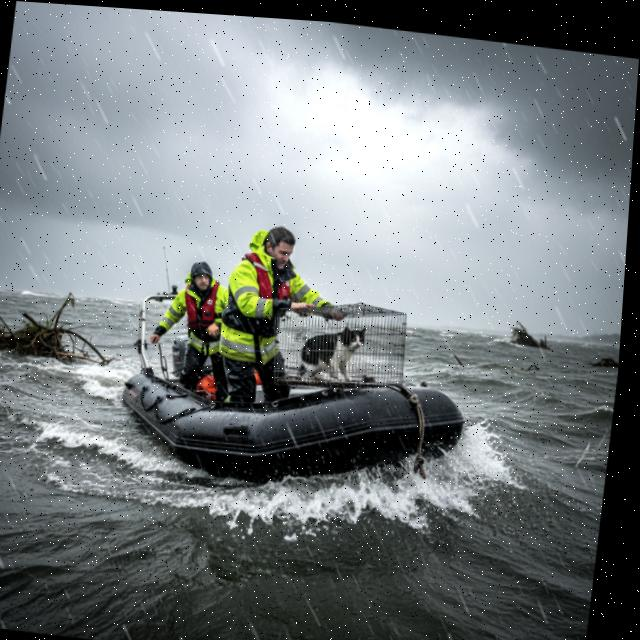cat: (290, 313, 377, 393)
rescuer: (209, 212, 324, 415), (140, 254, 256, 405)
